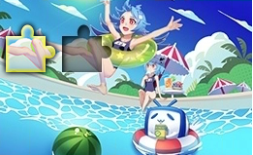gap: (62, 25, 113, 72)
